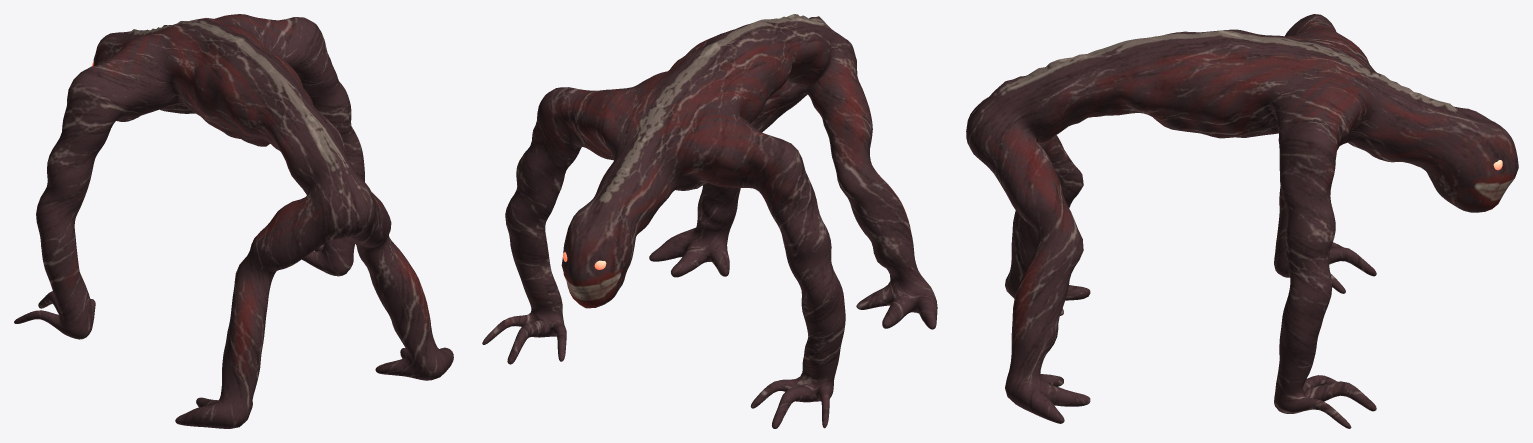
The model's file is spider.glb.
3 renders of one model, left to right at view 1: azimuth 30°, elevation 25°; view 2: azimuth 150°, elevation 25°; view 3: azimuth 270°, elevation 25°, orthographic. The views are drawn at different scales.
Visible parts, largest first — view 1: Monster; view 2: Monster; view 3: Monster.
Part boxes in pixels (x1,y1,x2,y2): Monster: [14, 14, 453, 428]; Monster: [482, 14, 937, 428]; Monster: [966, 14, 1518, 428].
Size of the model in its own units: 3.3 by 2.83 by 4.4.
Materials: 2 (1 with a texture image).
